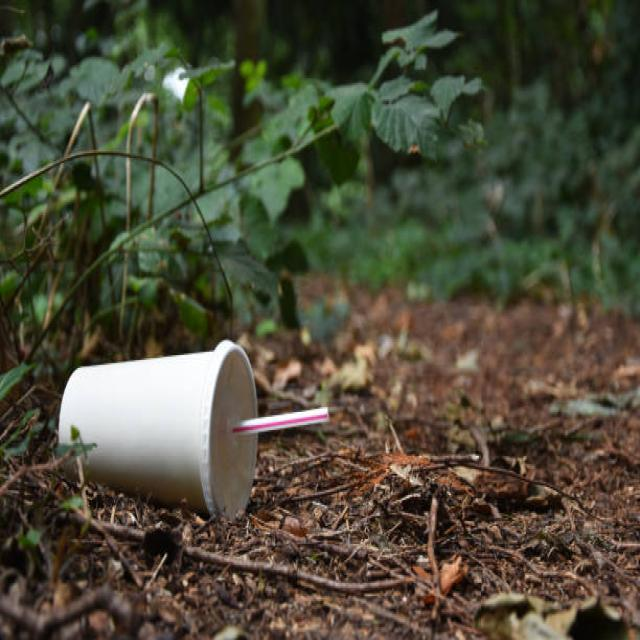cardboard: (48, 340, 244, 507)
plastic: (246, 404, 327, 436)
